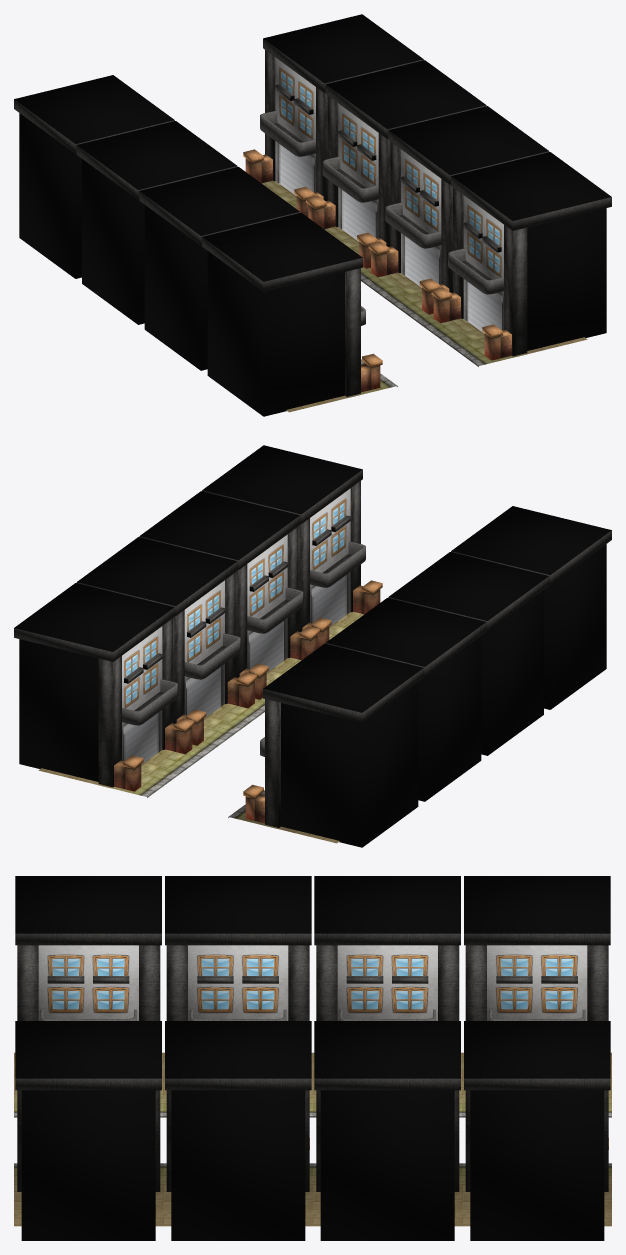
Rendered from MapHouse.FBX.
The picture shows the model from 3 angles, top to bottom: view 1: azimuth 30°, elevation 25°; view 2: azimuth 150°, elevation 25°; view 3: azimuth 270°, elevation 25°; orthographic projection. The views are drawn at different scales.
Parts seen in each view (by area): view 1: MapHouse; view 2: MapHouse; view 3: MapHouse.
Boxes of the visible parts, box(x1,y1,x2,y2) form: MapHouse: box(14, 14, 611, 416); MapHouse: box(14, 445, 611, 847); MapHouse: box(14, 876, 611, 1240).
Bounding box in the file's own units: 128 × 48.39 × 160.
